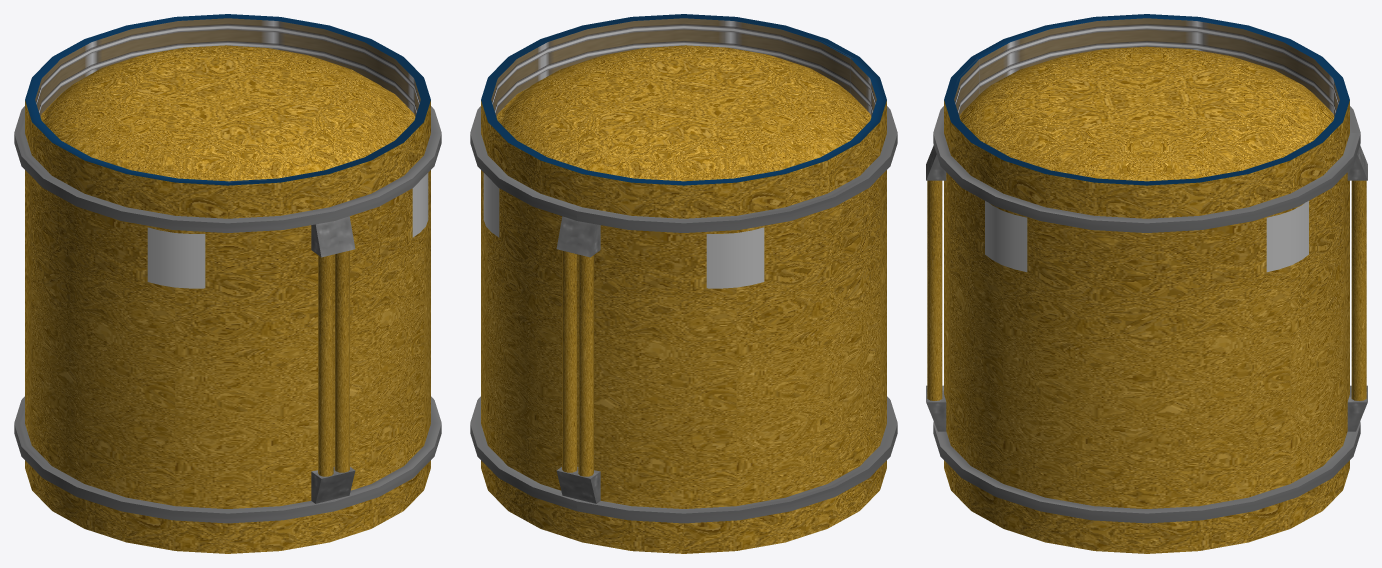
The model's file is FLM-7200LG.FBX.
The picture shows the model from 3 angles, left to right: view 1: azimuth 30°, elevation 25°; view 2: azimuth 150°, elevation 25°; view 3: azimuth 270°, elevation 25°; orthographic projection.
Visible parts, largest first — view 1: TankBody, EndCap001, TankSleeve001, TankSleeve002, BarrelBand003, BarrelBand002, FuelPipe001, FuelPipe002, decalPanel002, FuelPlug001, FuelPlug002, decalPanel001; view 2: TankBody, EndCap001, TankSleeve001, TankSleeve002, BarrelBand003, BarrelBand002, FuelPipe003, FuelPipe005, decalPanel003, FuelPlug003, FuelPlug004, decalPanel004; view 3: TankBody, EndCap001, TankSleeve001, TankSleeve002, BarrelBand003, BarrelBand002, FuelPipe002, FuelPipe005, decalPanel001, decalPanel004, FuelPlug002, FuelPlug004.
Boxes of the visible parts, <box> form: TankBody: <box>25,170,430,508</box>; EndCap001: <box>40,45,415,181</box>; TankSleeve001: <box>25,14,430,218</box>; TankSleeve002: <box>25,460,430,553</box>; BarrelBand003: <box>14,106,441,232</box>; BarrelBand002: <box>14,396,441,523</box>; FuelPipe001: <box>318,254,333,476</box>; FuelPipe002: <box>334,250,349,472</box>; decalPanel002: <box>147,227,205,288</box>; FuelPlug001: <box>311,216,355,257</box>; FuelPlug002: <box>311,466,355,503</box>; decalPanel001: <box>412,173,428,237</box>; TankBody: <box>481,170,886,508</box>; EndCap001: <box>496,45,871,181</box>; TankSleeve001: <box>481,14,886,218</box>; TankSleeve002: <box>481,460,886,553</box>; BarrelBand003: <box>470,106,897,232</box>; BarrelBand002: <box>470,396,897,523</box>; FuelPipe003: <box>578,254,593,476</box>; FuelPipe005: <box>562,250,577,472</box>; decalPanel003: <box>706,227,764,288</box>; FuelPlug003: <box>556,216,600,257</box>; FuelPlug004: <box>556,466,600,503</box>; decalPanel004: <box>483,173,499,237</box>; TankBody: <box>944,172,1349,508</box>; EndCap001: <box>959,46,1334,181</box>; TankSleeve001: <box>944,14,1349,218</box>; TankSleeve002: <box>944,460,1349,553</box>; BarrelBand003: <box>933,106,1360,232</box>; BarrelBand002: <box>933,421,1360,523</box>; FuelPipe002: <box>927,180,942,400</box>; FuelPipe005: <box>1351,180,1366,400</box>; decalPanel001: <box>985,201,1027,272</box>; decalPanel004: <box>1266,201,1308,272</box>; FuelPlug002: <box>926,385,946,431</box>; FuelPlug004: <box>1347,385,1367,431</box>.
Size of what is drawn, in the model's own units: 3.95 by 4.08 by 3.75.
